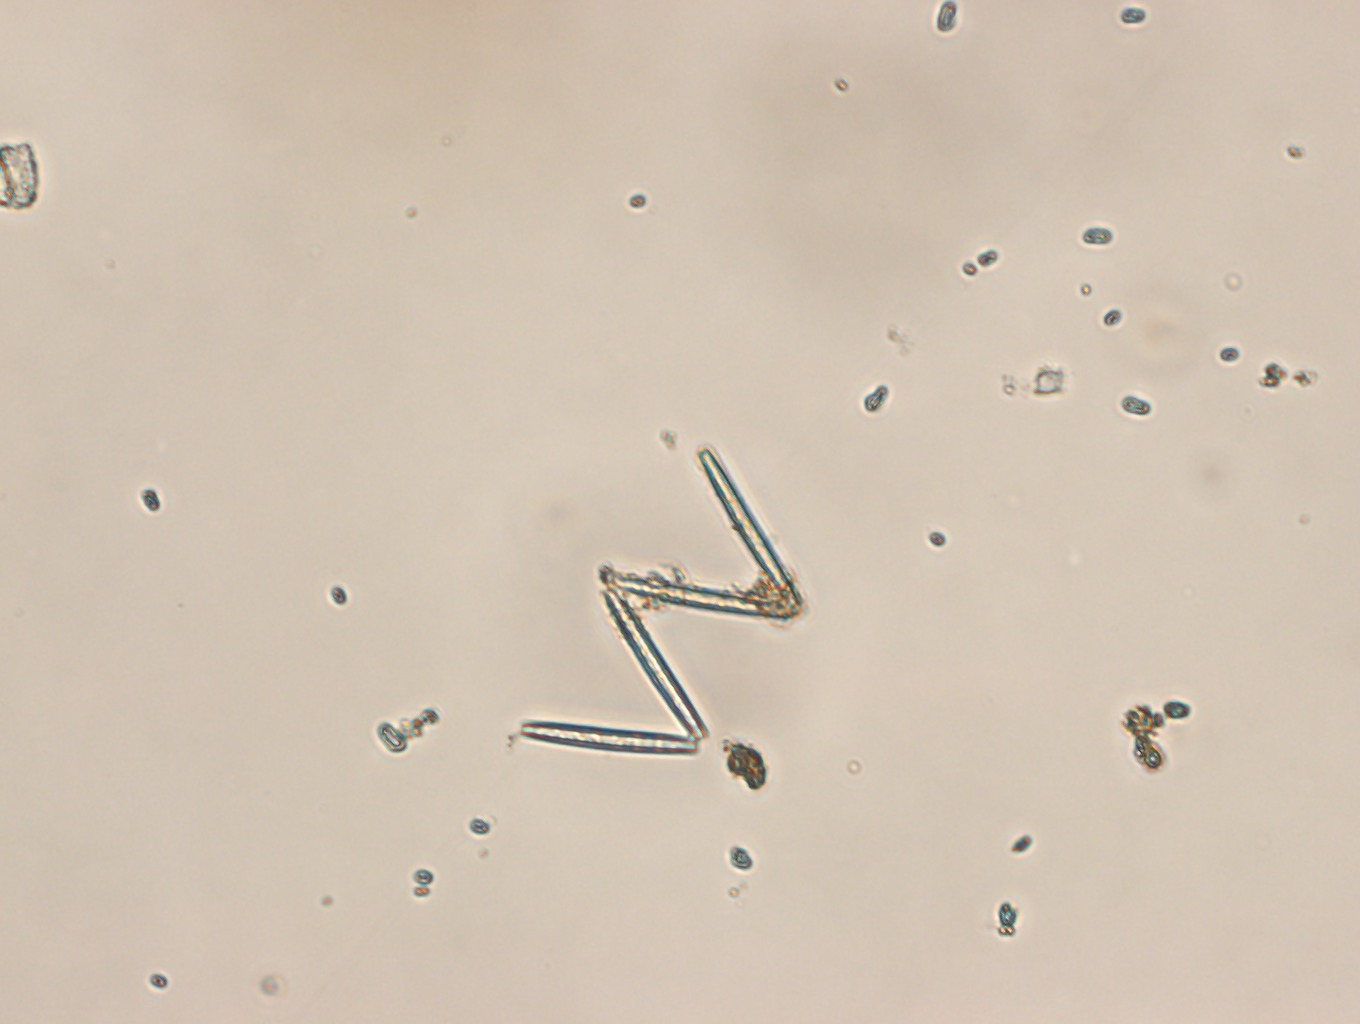thalassionema nitzschioides: (517, 447, 805, 756)
